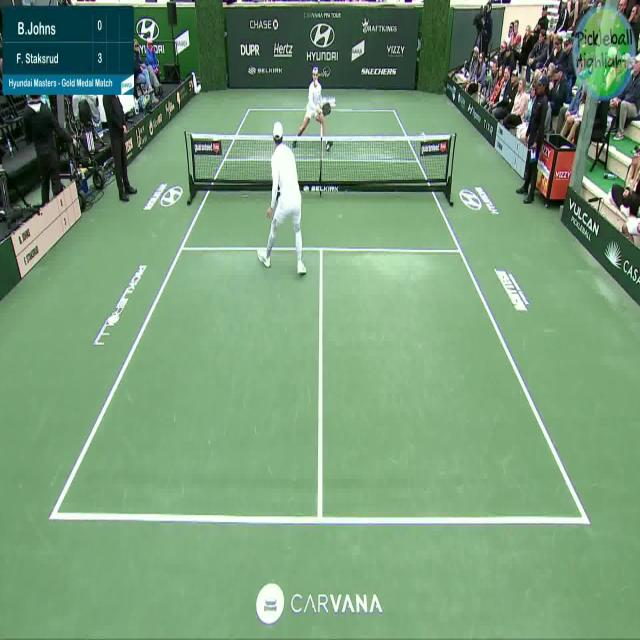Court: (53, 110, 584, 519)
